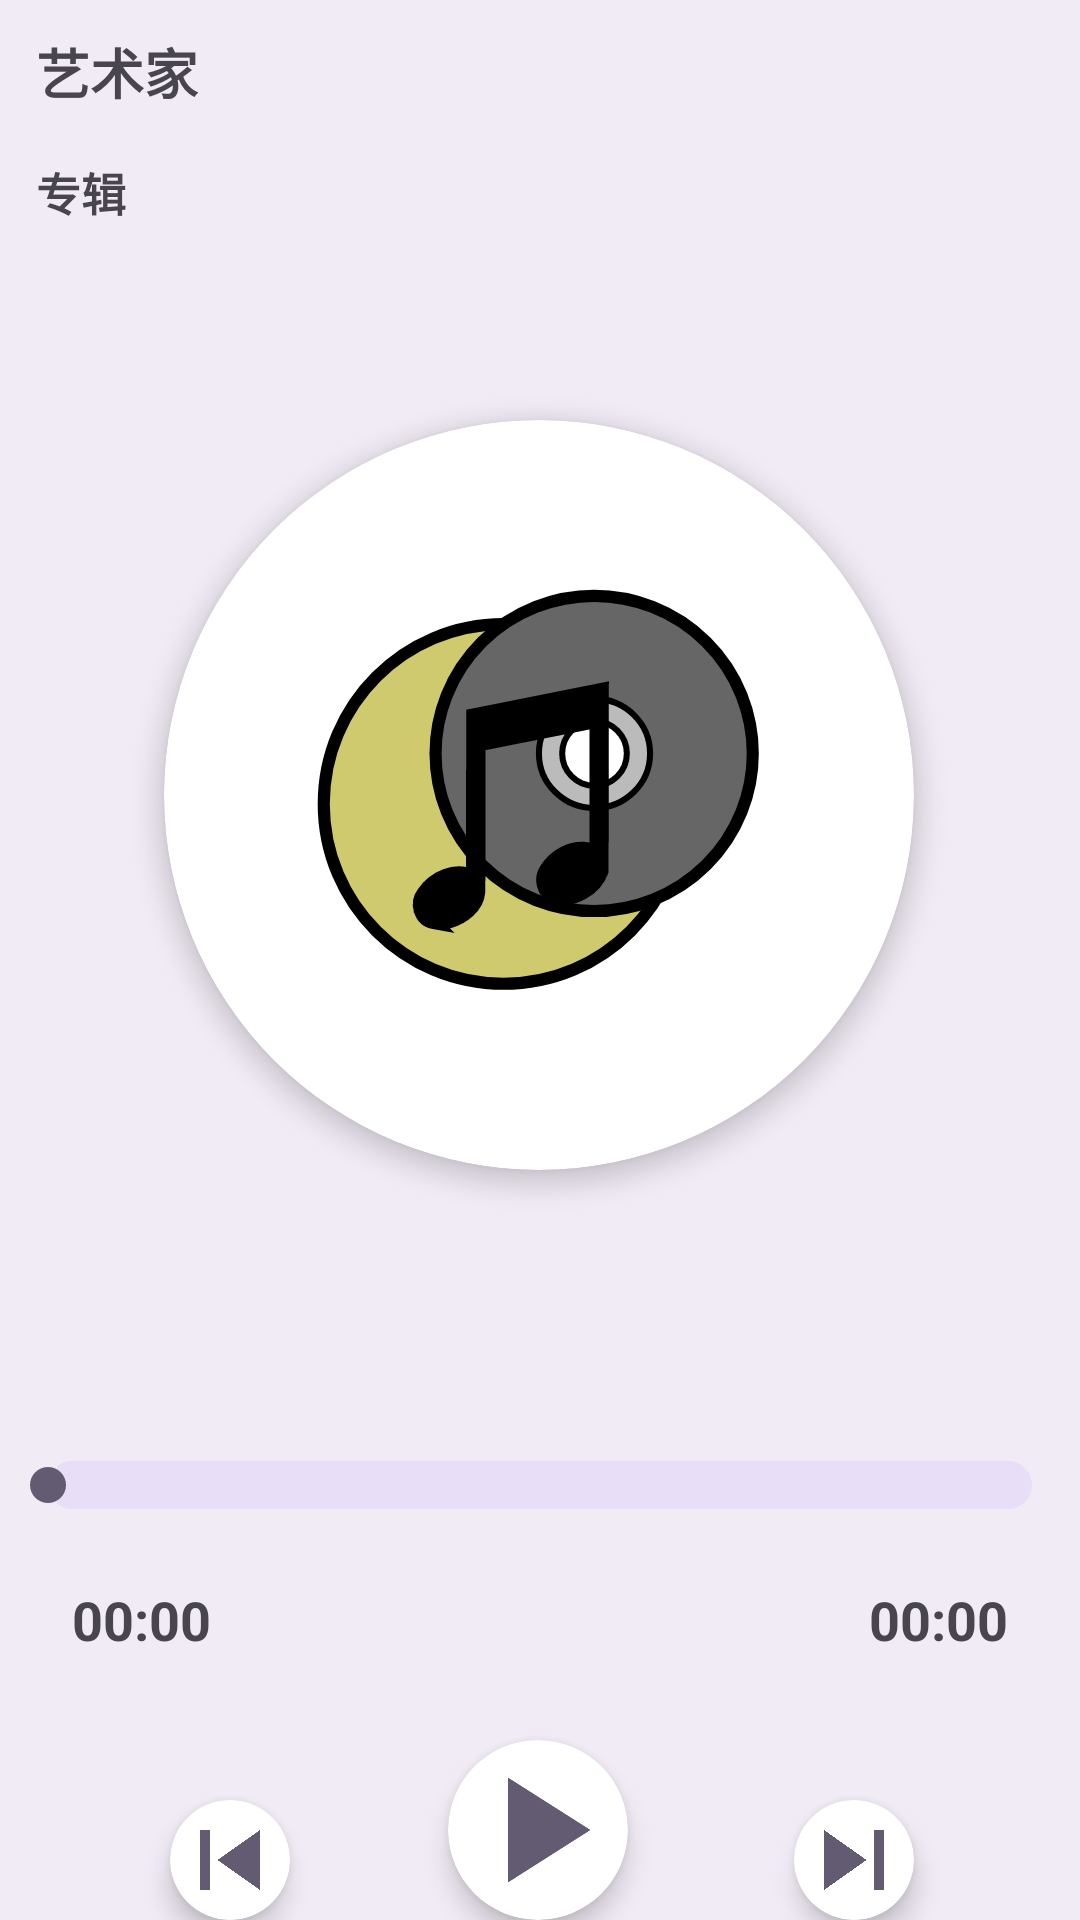

Named icons in this screenshot (1080*1920) and their bounding boxes, rect(x1, y1, x2, y2):
play arrow: rect(448, 1740, 628, 1920)
skip next: rect(794, 1800, 914, 1920)
skip previous: rect(170, 1800, 290, 1920)
